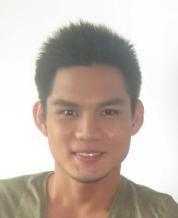face: (56, 99, 122, 162)
